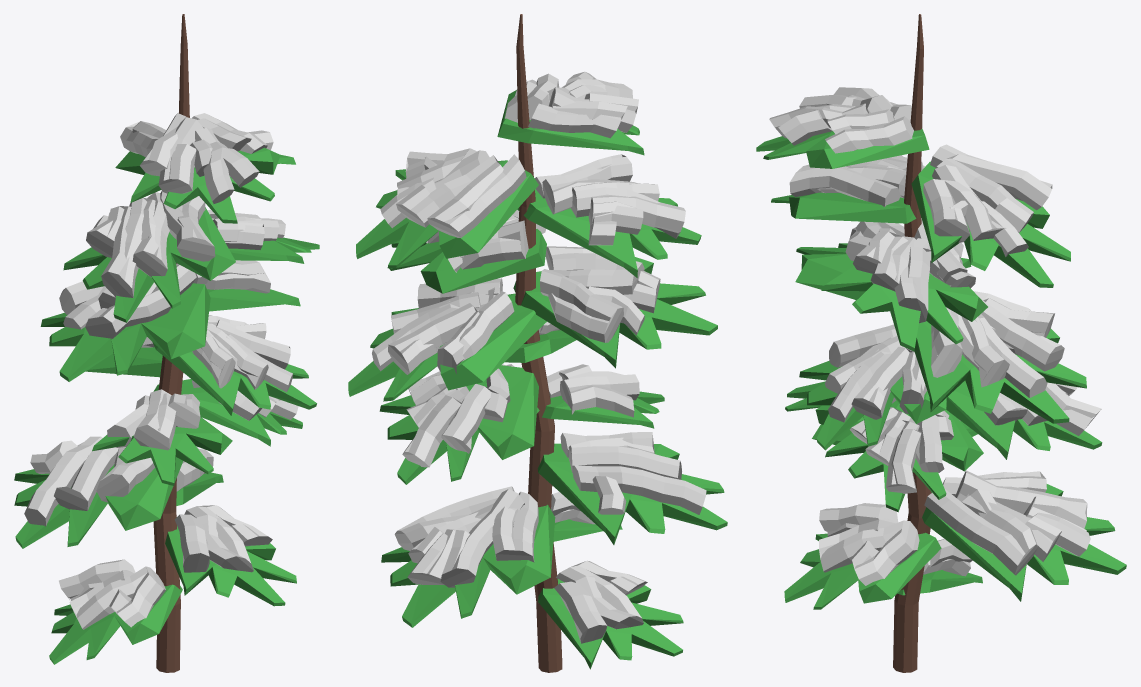
The model's file is tre1_lev5.glb.
3 renders of one model, left to right at view 1: azimuth 30°, elevation 25°; view 2: azimuth 150°, elevation 25°; view 3: azimuth 270°, elevation 25°, orthographic. The views are drawn at different scales.
Visible parts, largest first — view 1: tre1_lev5; view 2: tre1_lev5; view 3: tre1_lev5.
Part boxes in pixels (x1=…): tre1_lev5: x1=14, y1=14, x2=319, y2=672; tre1_lev5: x1=348, y1=14, x2=727, y2=672; tre1_lev5: x1=756, y1=14, x2=1126, y2=672.
Size of the model in its own units: 13.28 by 26.1 by 13.19.
